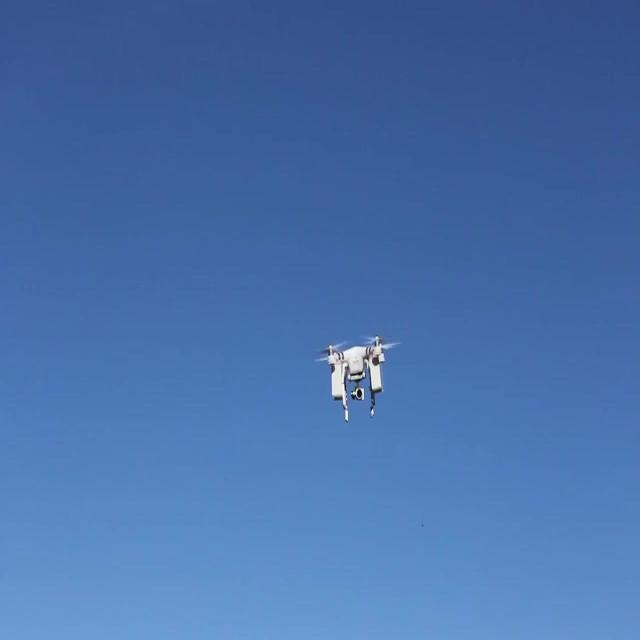drone: (317, 334, 401, 423)
